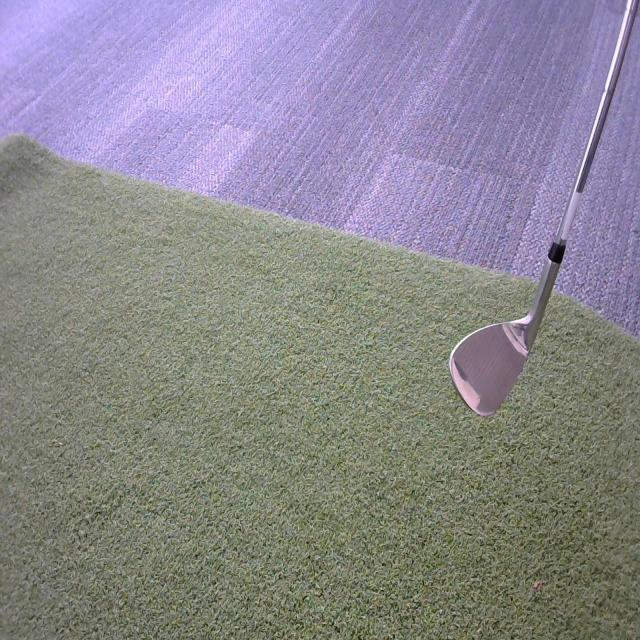ClubHead: (400, 272, 582, 438)
